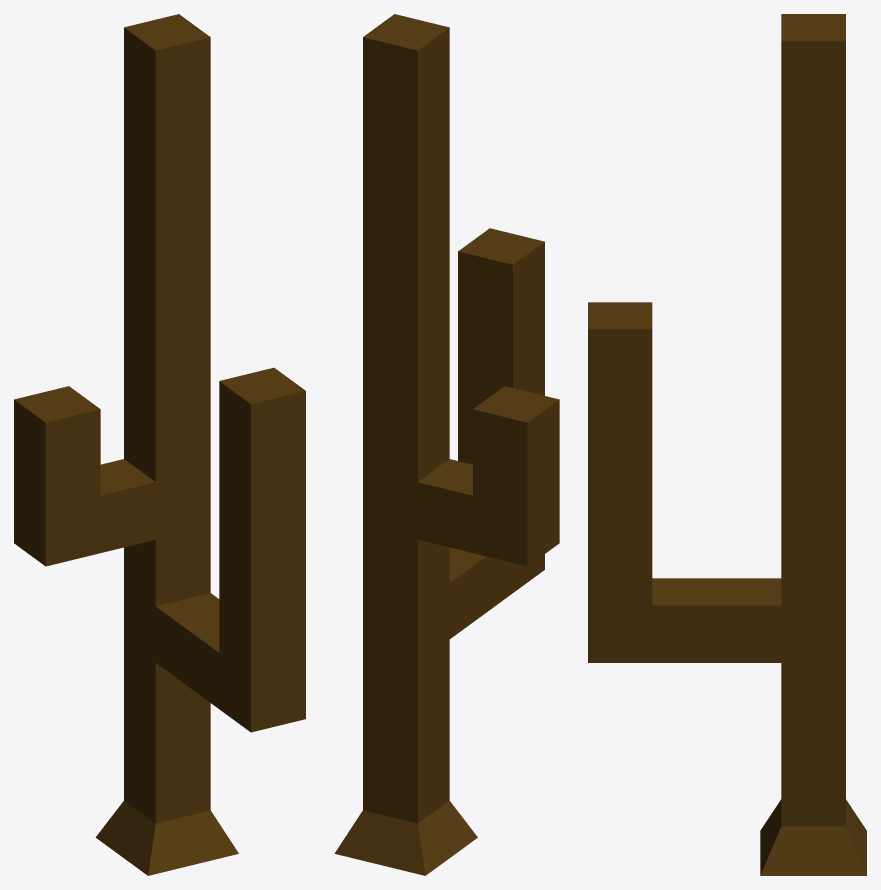
File: forest2(no leaves).fbx
The picture shows the model from 3 angles, left to right: view 1: azimuth 30°, elevation 25°; view 2: azimuth 150°, elevation 25°; view 3: azimuth 270°, elevation 25°; orthographic projection.
Visible parts, largest first — view 1: forest2(no leaves); view 2: forest2(no leaves); view 3: forest2(no leaves).
Boxes of the visible parts, x1,y1,x2,y2 form: forest2(no leaves): [14, 14, 305, 875]; forest2(no leaves): [334, 14, 559, 875]; forest2(no leaves): [588, 14, 866, 875].
Bounding box in the file's own units: 297 × 1262 × 386.
Materials: 1 (1 with a texture image).
